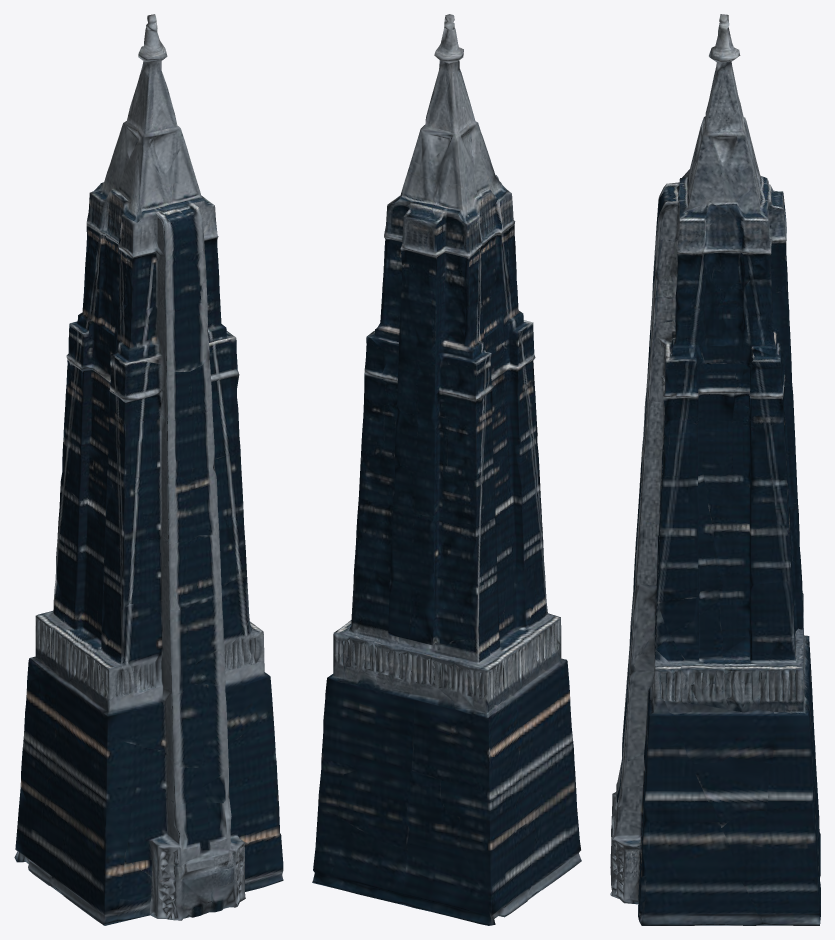
The model's file is tower_g_p.glb.
The picture shows the model from 3 angles, left to right: view 1: azimuth 30°, elevation 25°; view 2: azimuth 150°, elevation 25°; view 3: azimuth 270°, elevation 25°; orthographic projection.
Bounding box in the file's own units: 0.3948 × 1.79 × 0.3935.
1 material, 1 textured.
